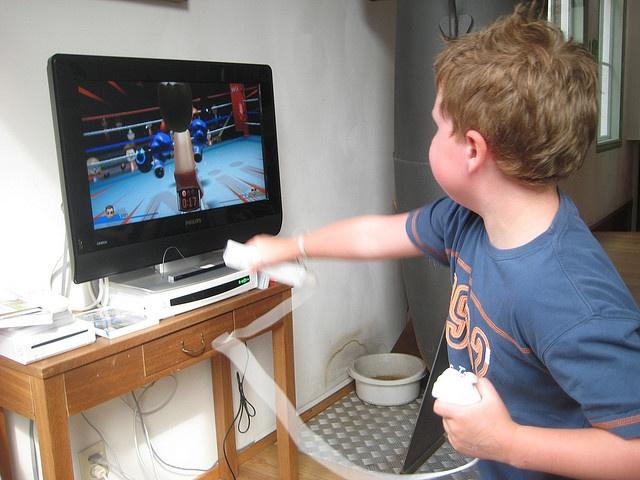AIO PC-Monitor-TV: (45, 52, 283, 282)
